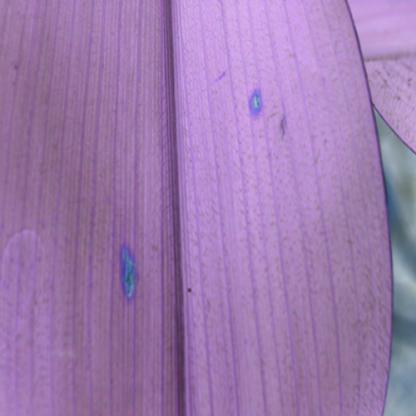corn rust leaf: (1, 1, 345, 415)
